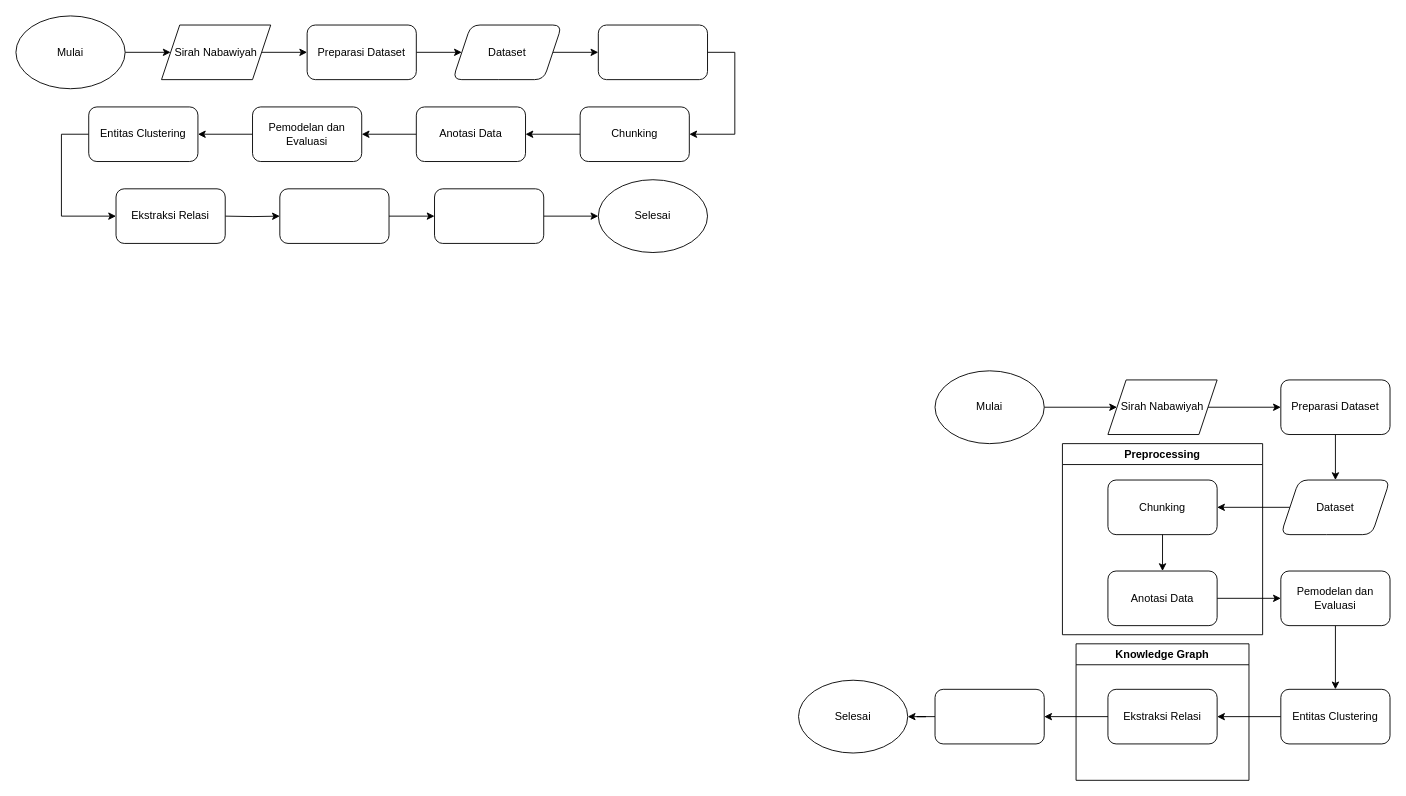
Image size: 1406x796. Some labels were removed from this diagram. The centre of each missing label's shape, as x and y in pixels:
"Evaluasi" goes at point (489, 215).
"Evaluasi Graph" goes at point (989, 716).
"Konstruksi Knowledge Graph" goes at point (334, 215).
"Preprocesing" goes at point (652, 52).
